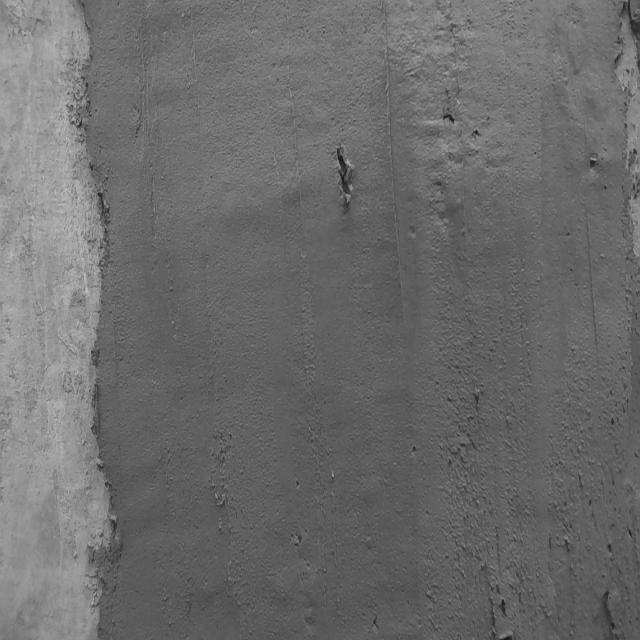trowels marks: (382, 9, 406, 339)
